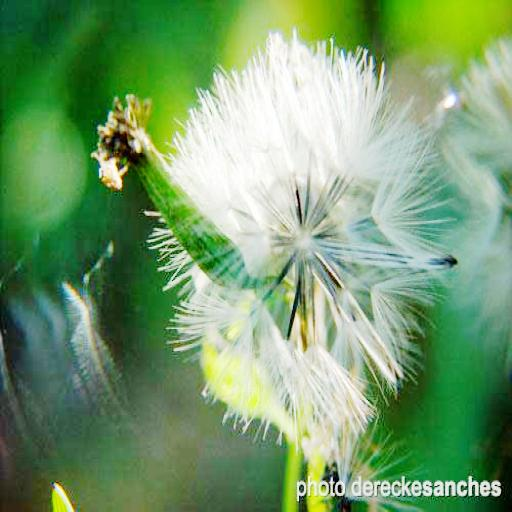dandelion: (152, 29, 460, 457)
